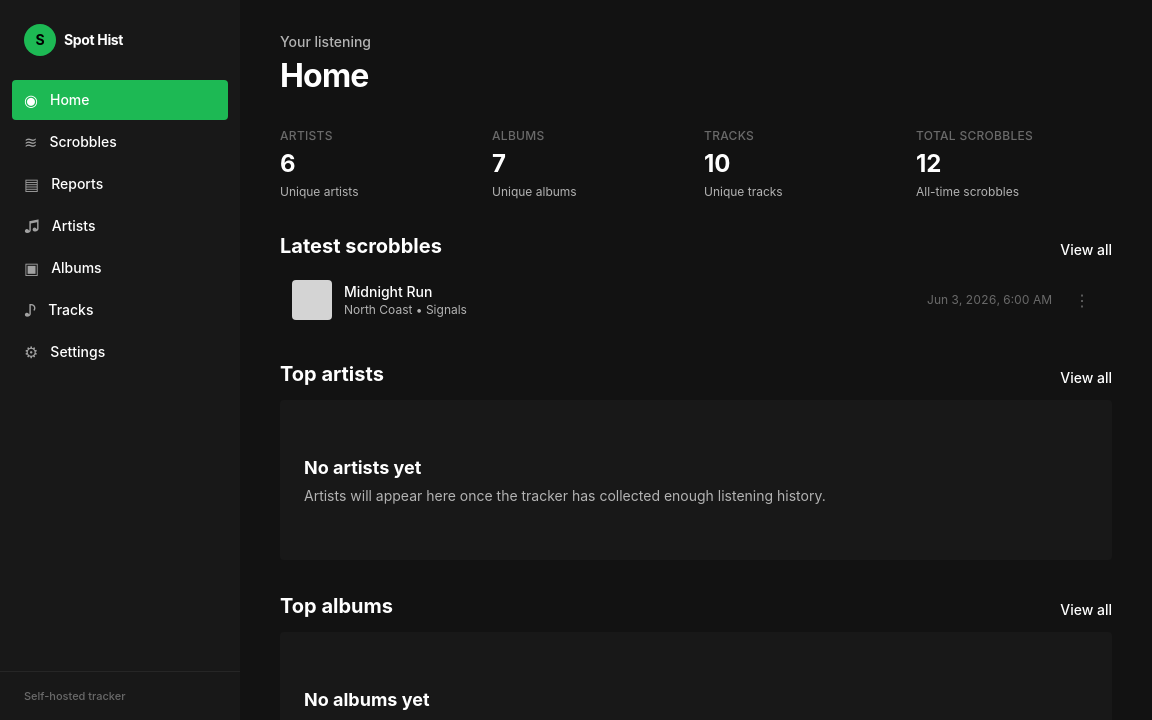
Test: detail page navigation › links home page scrobble rows into track, album, and artist detail pages
The image size is (1152, 720).
Click the link "Midnight Run" at (388, 292), box [344,283,432,300]
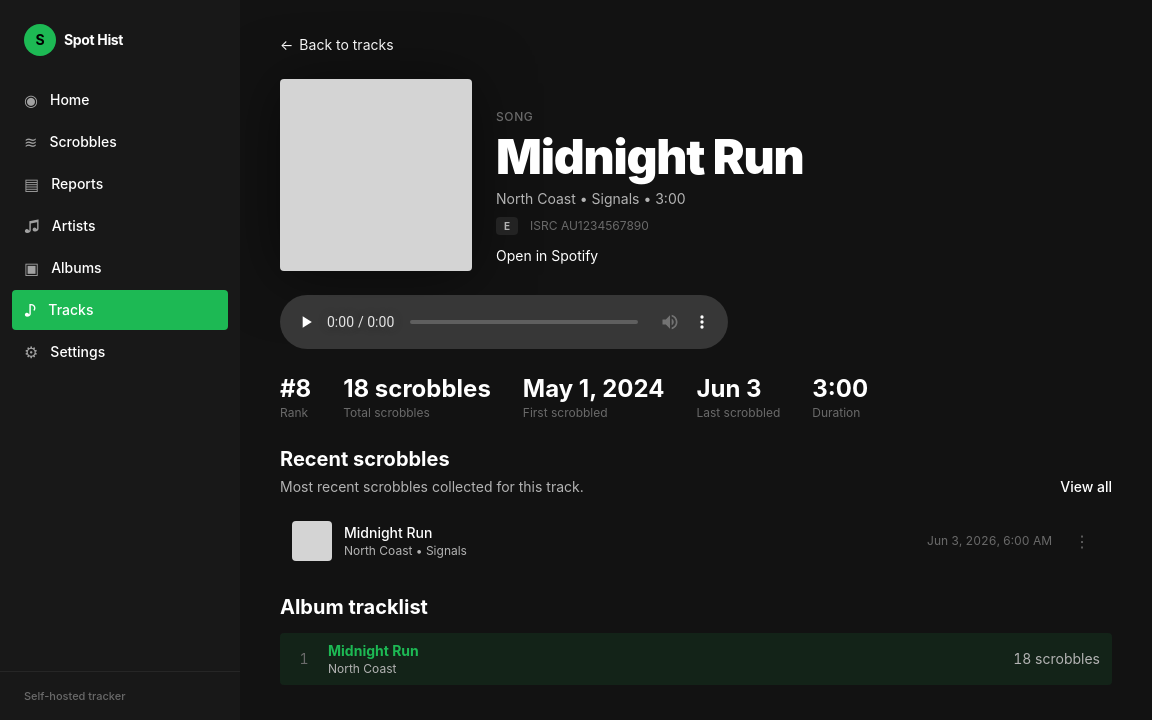
Result: the heading "Album tracklist" is shown at [280,593,428,621]
